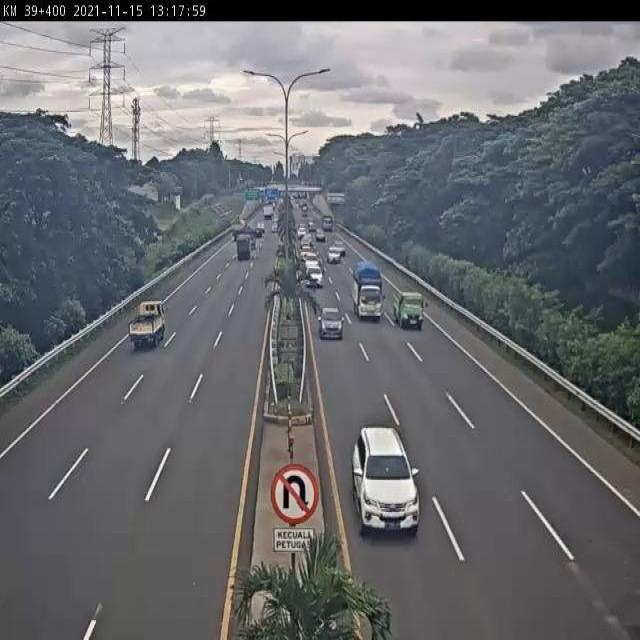car: (350, 425, 422, 540), (318, 304, 345, 340), (304, 262, 323, 286)
truck-m-: (352, 259, 383, 321)
truck-s-: (128, 300, 166, 352), (391, 286, 426, 330)
